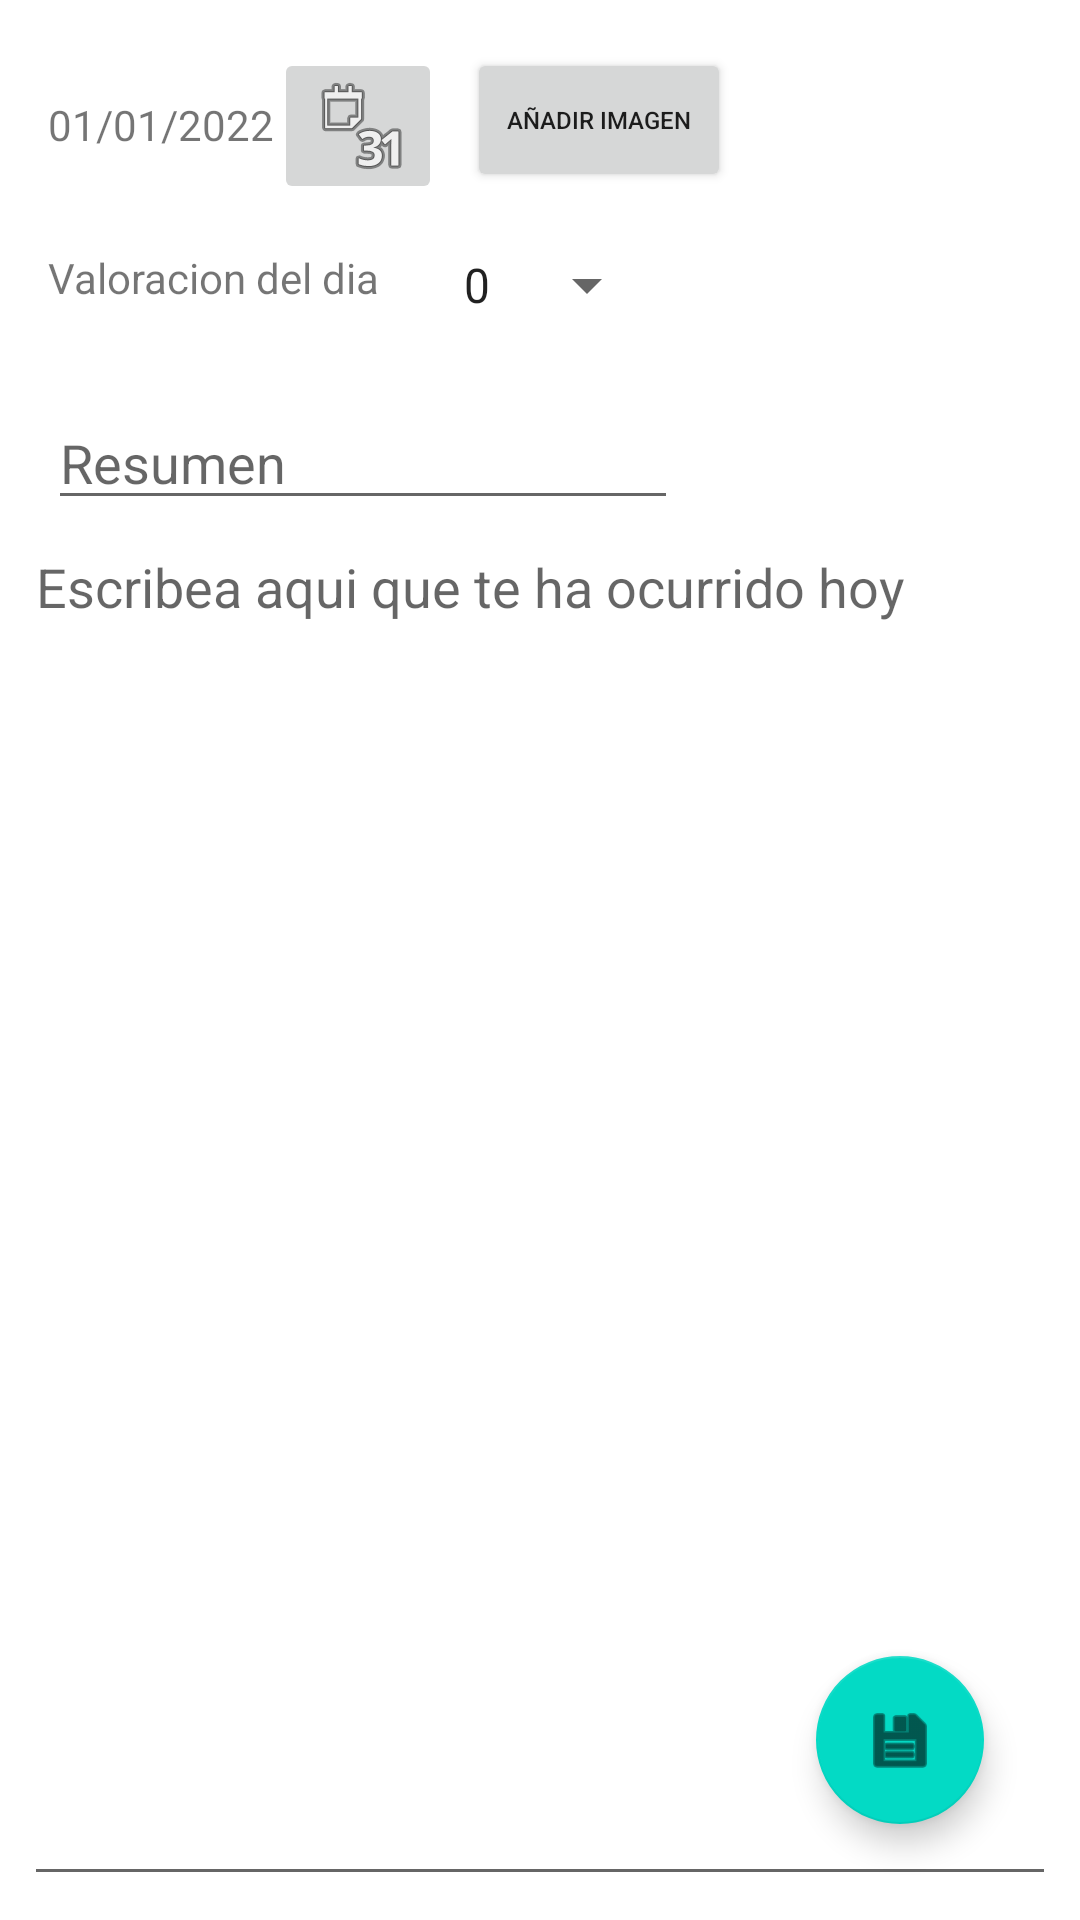

Point at icon controls on the screen. Image size 1080w x 1920h, points as [x,y].
month: [358,126]
save: [900,1740]
